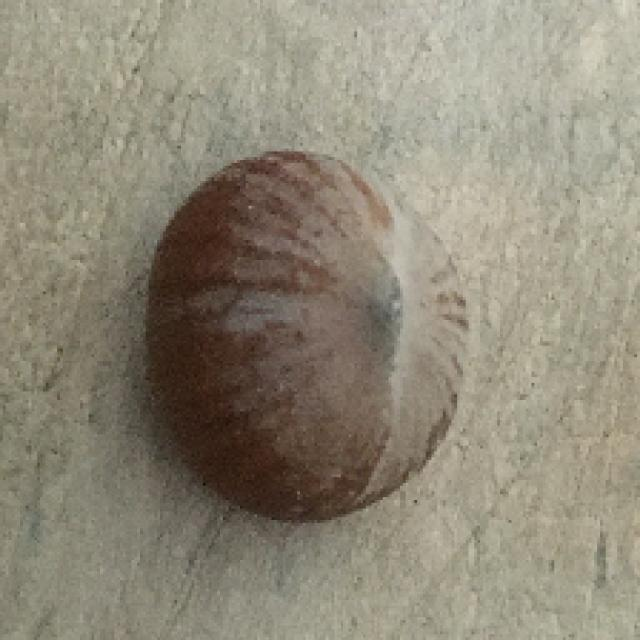qualityHazelnut: (142, 147, 472, 525)
